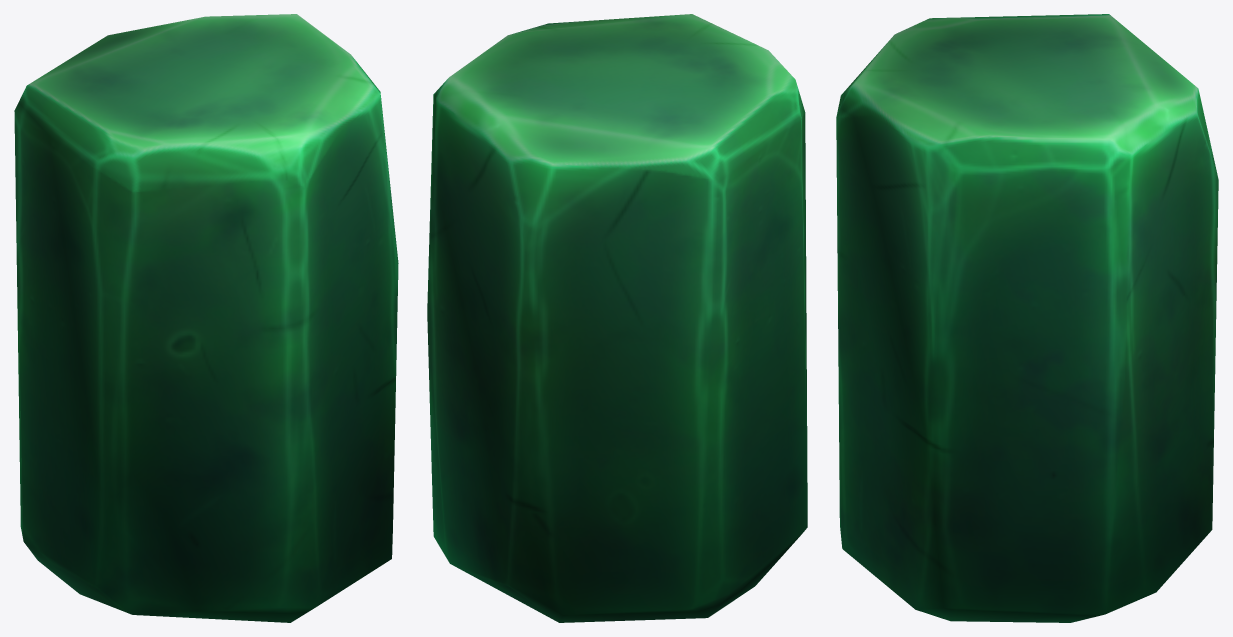
The model's file is SM_Gem_Emerald_002.fbx.
3 views of the same model, side by side, from view 1: azimuth 30°, elevation 25°; view 2: azimuth 150°, elevation 25°; view 3: azimuth 270°, elevation 25° (orthographic).
Parts seen in each view (by area): view 1: SM_Gem_Emerald_002; view 2: SM_Gem_Emerald_002; view 3: SM_Gem_Emerald_002.
Boxes of the visible parts, x1,y1,x2,y2 form: SM_Gem_Emerald_002: (14,14,398,622); SM_Gem_Emerald_002: (427,14,807,622); SM_Gem_Emerald_002: (836,14,1218,622).
Size of the model in its own units: 26.35 by 41.19 by 29.46.
